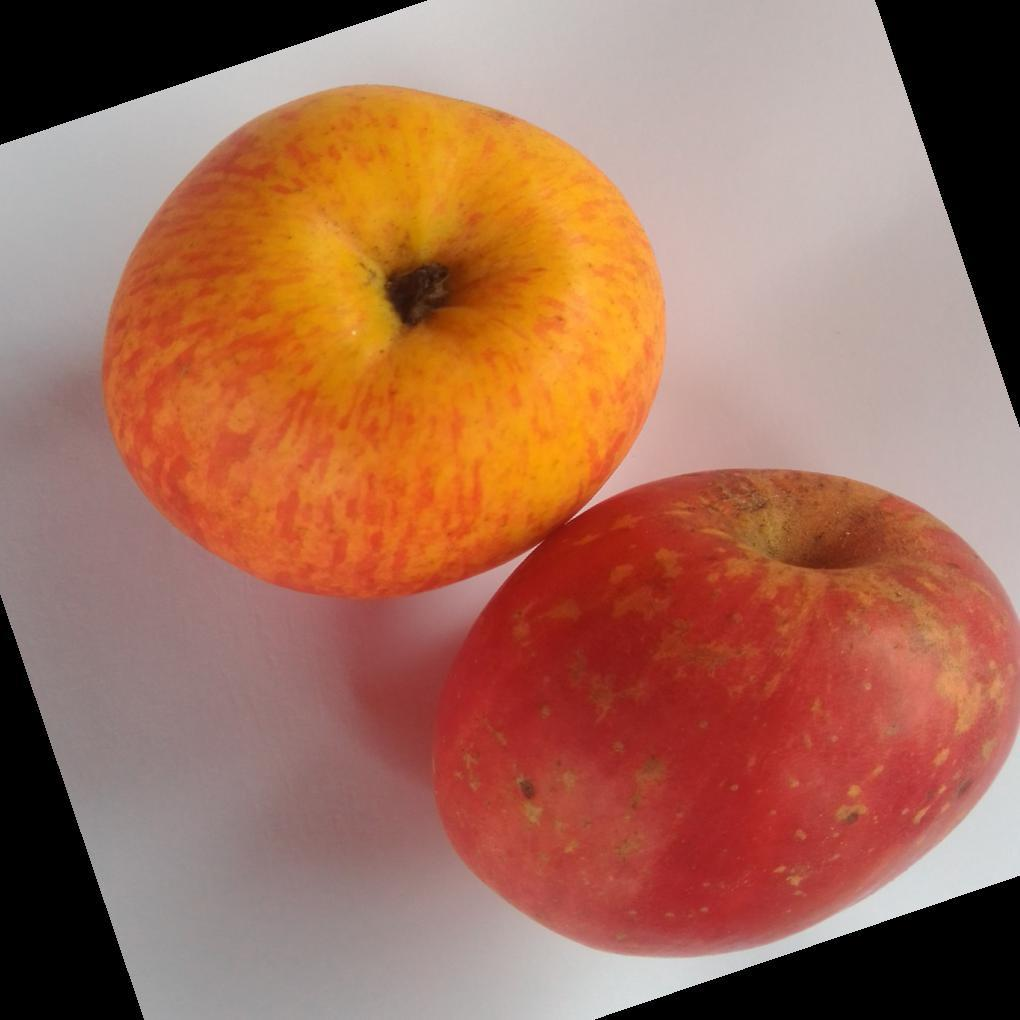FreshGuava: (98, 84, 1020, 963)
